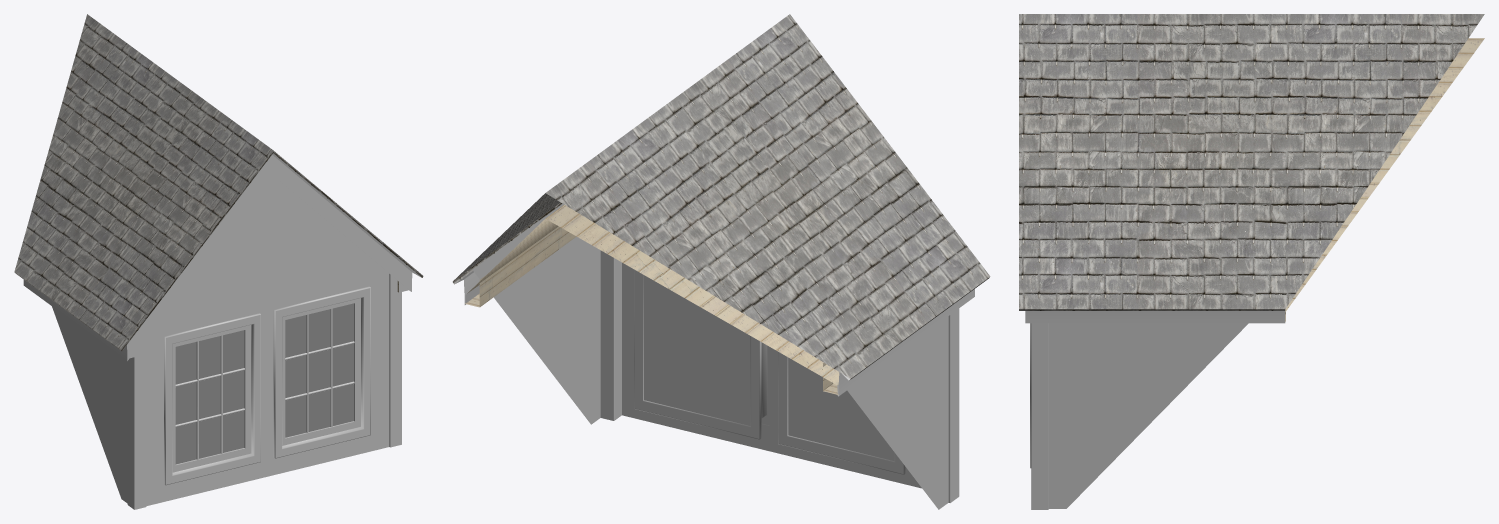
The model's file is Roof_Extra_Window_Double.FBX.
3 views of the same model, side by side, from view 1: azimuth 30°, elevation 25°; view 2: azimuth 150°, elevation 25°; view 3: azimuth 270°, elevation 25° (orthographic). The views are drawn at different scales.
Visible parts, largest first — view 1: Roof_Extra_Window_Double; view 2: Roof_Extra_Window_Double; view 3: Roof_Extra_Window_Double.
Part boxes in pixels (x1,y1,x2,y2): Roof_Extra_Window_Double: (14,14,423,509); Roof_Extra_Window_Double: (452,14,990,509); Roof_Extra_Window_Double: (1019,14,1484,509).
Size of the model in its own units: 332 by 346 by 353.
